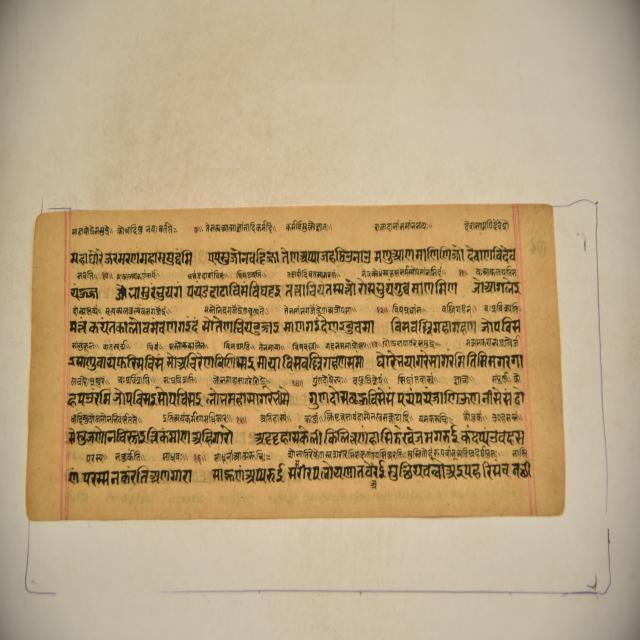text_paragraph: (26, 208, 565, 518)
